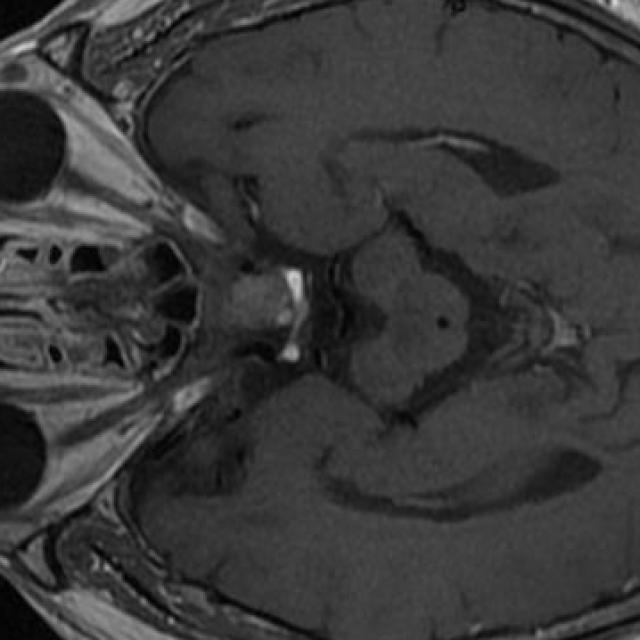pituitary: (219, 273, 292, 332)
